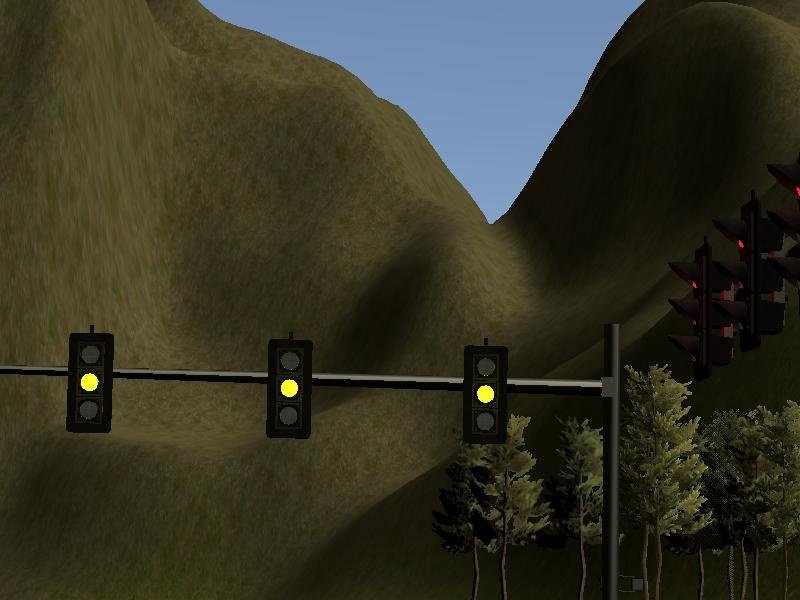YELLOW: (62, 330, 115, 434), (459, 345, 510, 448), (267, 339, 315, 439)
